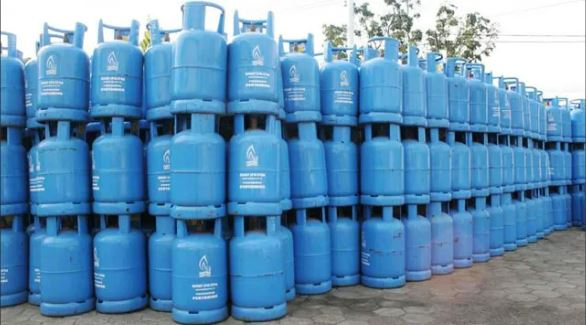blue_gas: (30, 211, 94, 318), (172, 2, 227, 116), (172, 218, 230, 325), (230, 215, 287, 322), (26, 124, 91, 217), (93, 213, 149, 315), (37, 18, 91, 121), (172, 114, 226, 217), (229, 7, 280, 115), (89, 15, 142, 118), (229, 115, 283, 214), (90, 121, 143, 217), (145, 215, 192, 315), (277, 33, 323, 125), (359, 34, 403, 127), (359, 203, 407, 288), (359, 125, 406, 207), (322, 38, 362, 127), (143, 17, 177, 121), (289, 122, 330, 208), (293, 207, 332, 295), (392, 43, 427, 129), (322, 125, 358, 207), (147, 211, 173, 311), (1, 128, 30, 216), (331, 204, 360, 289), (146, 123, 174, 210), (401, 204, 431, 284), (1, 215, 27, 307), (419, 52, 449, 131), (1, 31, 25, 127), (536, 188, 586, 233), (403, 126, 430, 204), (444, 57, 471, 132), (429, 128, 452, 202), (22, 31, 39, 129), (432, 202, 454, 275), (466, 60, 487, 136), (542, 141, 573, 187), (470, 196, 489, 266), (470, 134, 490, 198), (557, 98, 586, 142), (452, 132, 470, 200), (454, 199, 471, 271), (502, 77, 522, 137), (516, 191, 537, 248), (485, 68, 501, 138), (488, 193, 506, 255), (536, 92, 556, 147), (523, 85, 539, 141), (488, 137, 503, 195), (526, 145, 544, 192), (514, 138, 528, 196), (503, 190, 516, 251), (502, 138, 515, 193)
